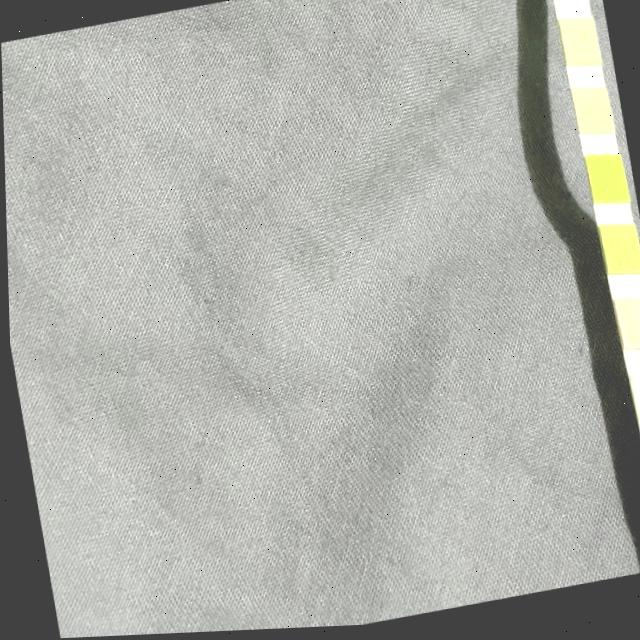Bilirubin: (631, 380, 640, 428)
Blood: (587, 162, 623, 204)
Ketone: (617, 304, 640, 351)
Protein: (562, 25, 594, 65)
SpGravity: (602, 232, 636, 277)
pH: (575, 94, 609, 135)
